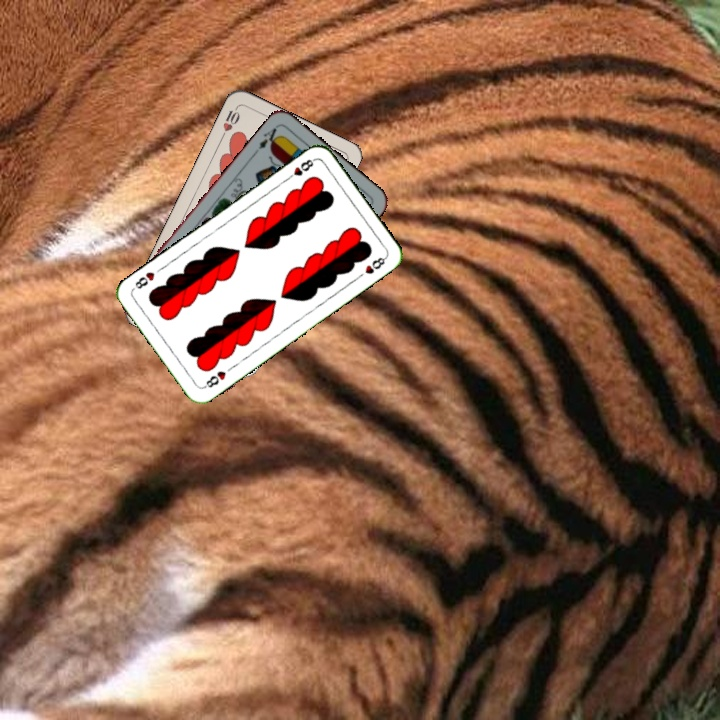EA: (254, 122, 283, 152)
H10: (217, 103, 242, 141)
H8: (282, 154, 318, 183), (199, 367, 229, 391)
